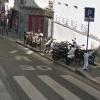Crosswalk: (2, 66, 94, 100)
